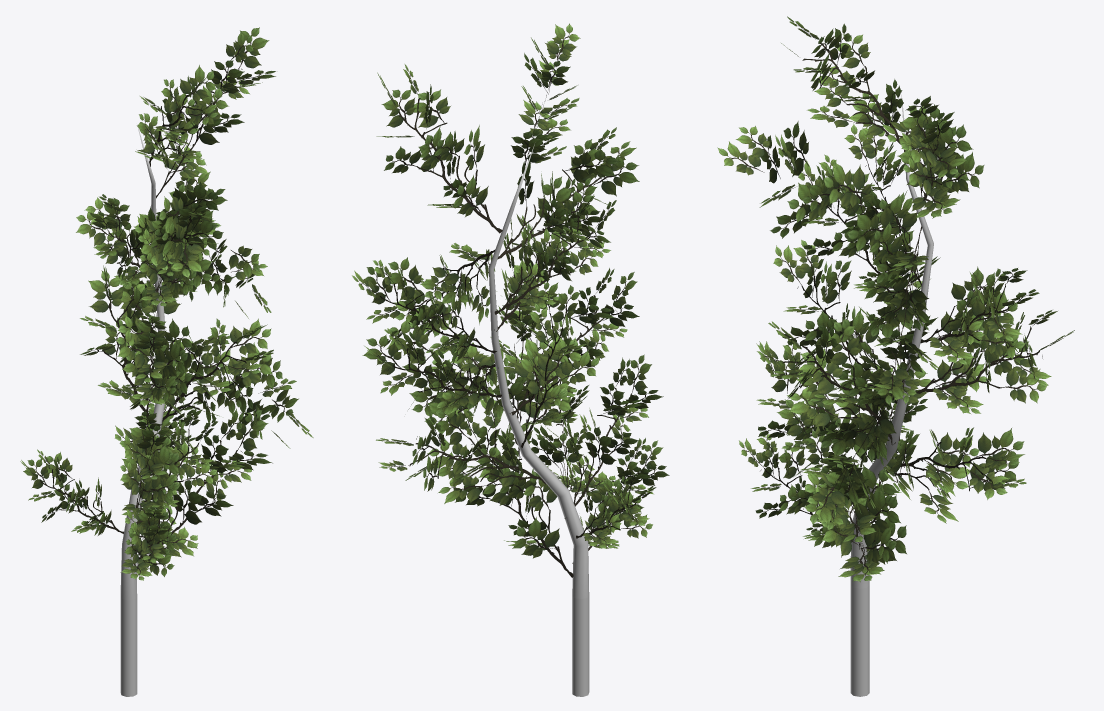
File: Branch_Leaves_01.FBX
3 views of the same model, side by side, from view 1: azimuth 30°, elevation 25°; view 2: azimuth 150°, elevation 25°; view 3: azimuth 270°, elevation 25° (orthographic). The views are drawn at different scales.
Visible parts, largest first — view 1: Branch_Leaves_01; view 2: Branch_Leaves_01; view 3: Branch_Leaves_01.
Part boxes in pixels (box(x1,y1,x2,y2)): Branch_Leaves_01: box(20, 27, 313, 696); Branch_Leaves_01: box(352, 23, 669, 696); Branch_Leaves_01: box(717, 16, 1074, 696).
Bounding box in the file's own units: 3.71 × 8.1 × 3.95.
